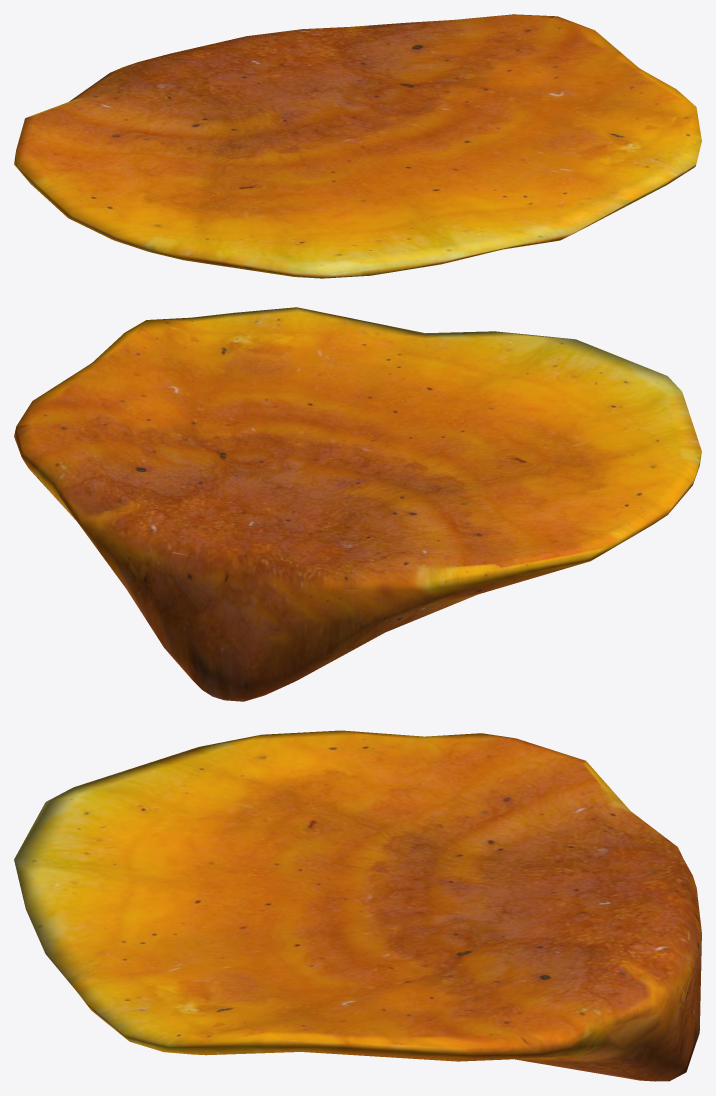
Rendered from fungi_01.fbx.
The picture shows the model from 3 angles, top to bottom: view 1: azimuth 30°, elevation 25°; view 2: azimuth 150°, elevation 25°; view 3: azimuth 270°, elevation 25°; orthographic projection. The views are drawn at different scales.
Parts seen in each view (by area): view 1: fungi; view 2: fungi; view 3: fungi.
Boxes of the visible parts, box(x1,y1,x2,y2) form: fungi: box(14, 14, 701, 278); fungi: box(14, 307, 701, 701); fungi: box(14, 730, 701, 1081).
Size of the model in its own units: 221 by 61.92 by 200.
Materials: 1 (1 with a texture image).
